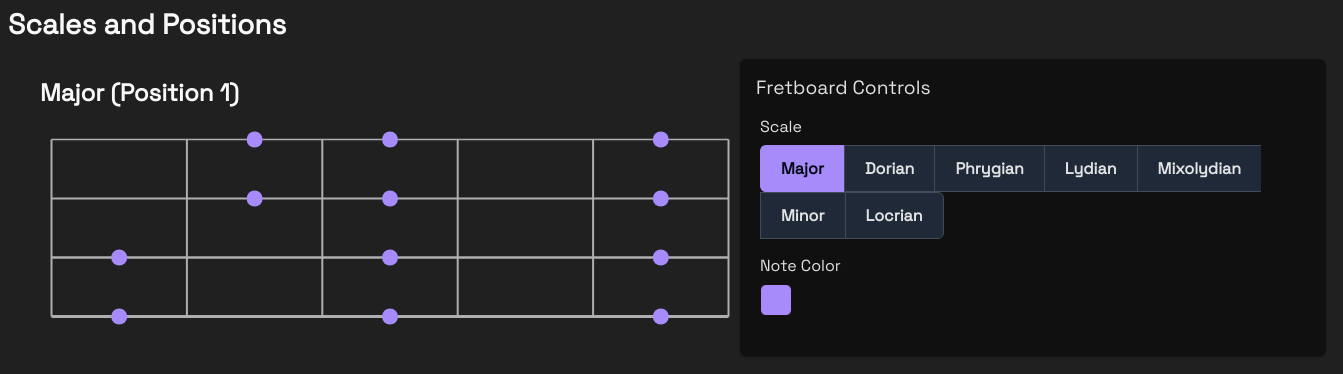
Test case: Scales › scale selection › updates the subtitle when Dorian is selected
Click the button "Dorian".
click(889, 168)  # box [844,145,934,192]
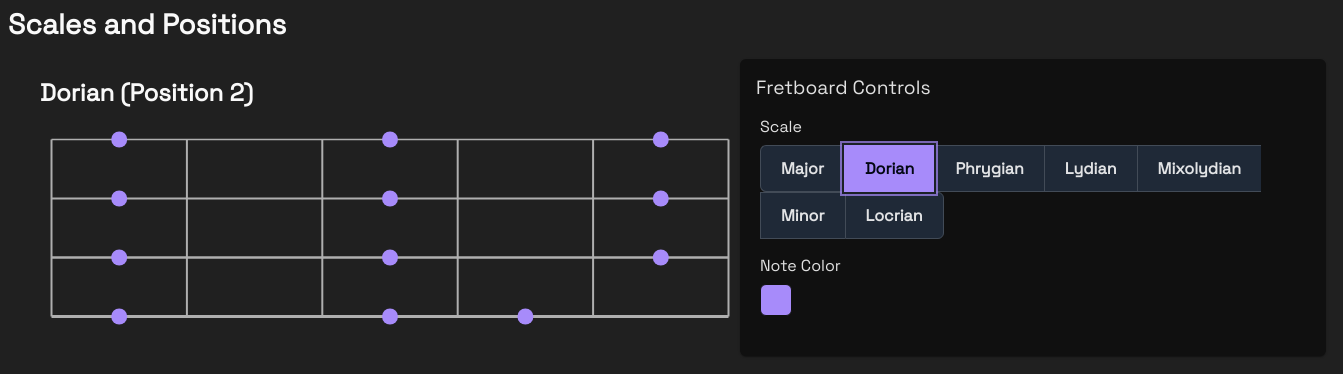
Expected: the heading "Dorian (Position 2)" is shown, [40,77,253,108]
